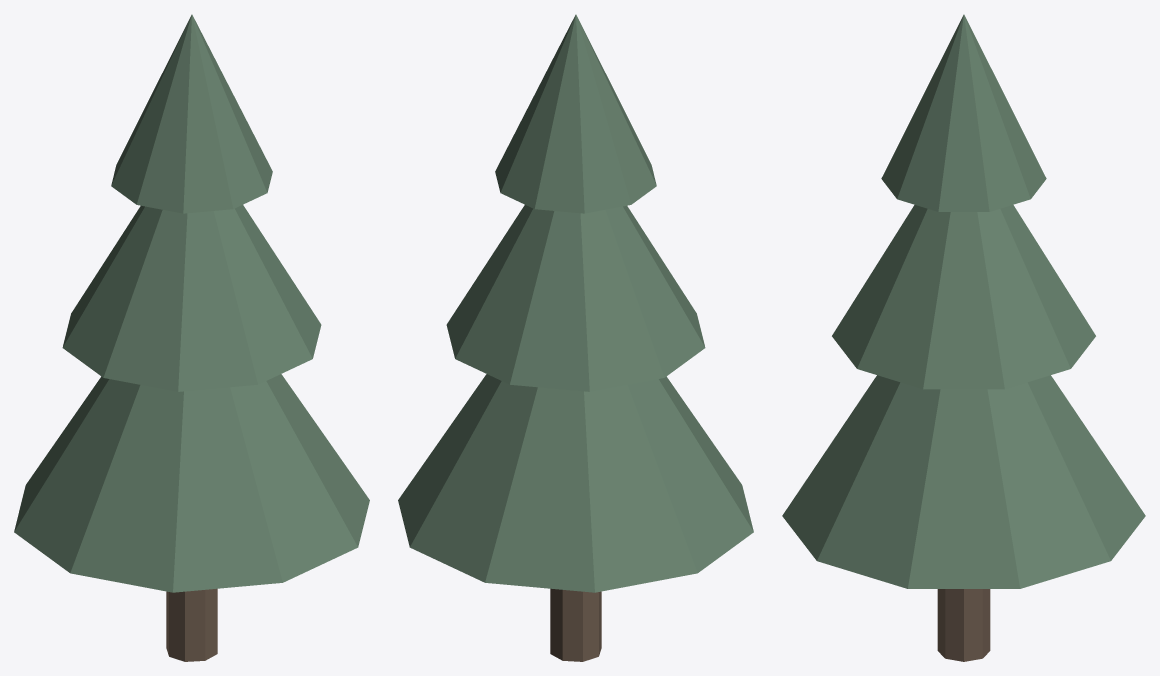
Rendered from tree.glb.
3 renders of one model, left to right at view 1: azimuth 30°, elevation 25°; view 2: azimuth 150°, elevation 25°; view 3: azimuth 270°, elevation 25°, orthographic.
Parts seen in each view (by area): view 1: TreeTier1, TreeTier2, TreeTier3, TreeTrunk; view 2: TreeTier1, TreeTier2, TreeTier3, TreeTrunk; view 3: TreeTier1, TreeTier2, TreeTier3, TreeTrunk.
Part boxes in pixels (box(x1,y1,x2,y2)): TreeTier1: box(14, 374, 369, 592); TreeTier2: box(62, 205, 321, 391); TreeTier3: box(111, 14, 272, 213); TreeTrunk: box(166, 588, 217, 661); TreeTier1: box(398, 374, 753, 592); TreeTier2: box(446, 205, 705, 391); TreeTier3: box(495, 14, 656, 213); TreeTrunk: box(550, 588, 601, 661); TreeTier1: box(782, 375, 1145, 588); TreeTier2: box(832, 205, 1095, 389); TreeTier3: box(881, 14, 1046, 211); TreeTrunk: box(937, 589, 990, 661).
Size of the model in its own units: 1.05 by 2.13 by 1.1.
